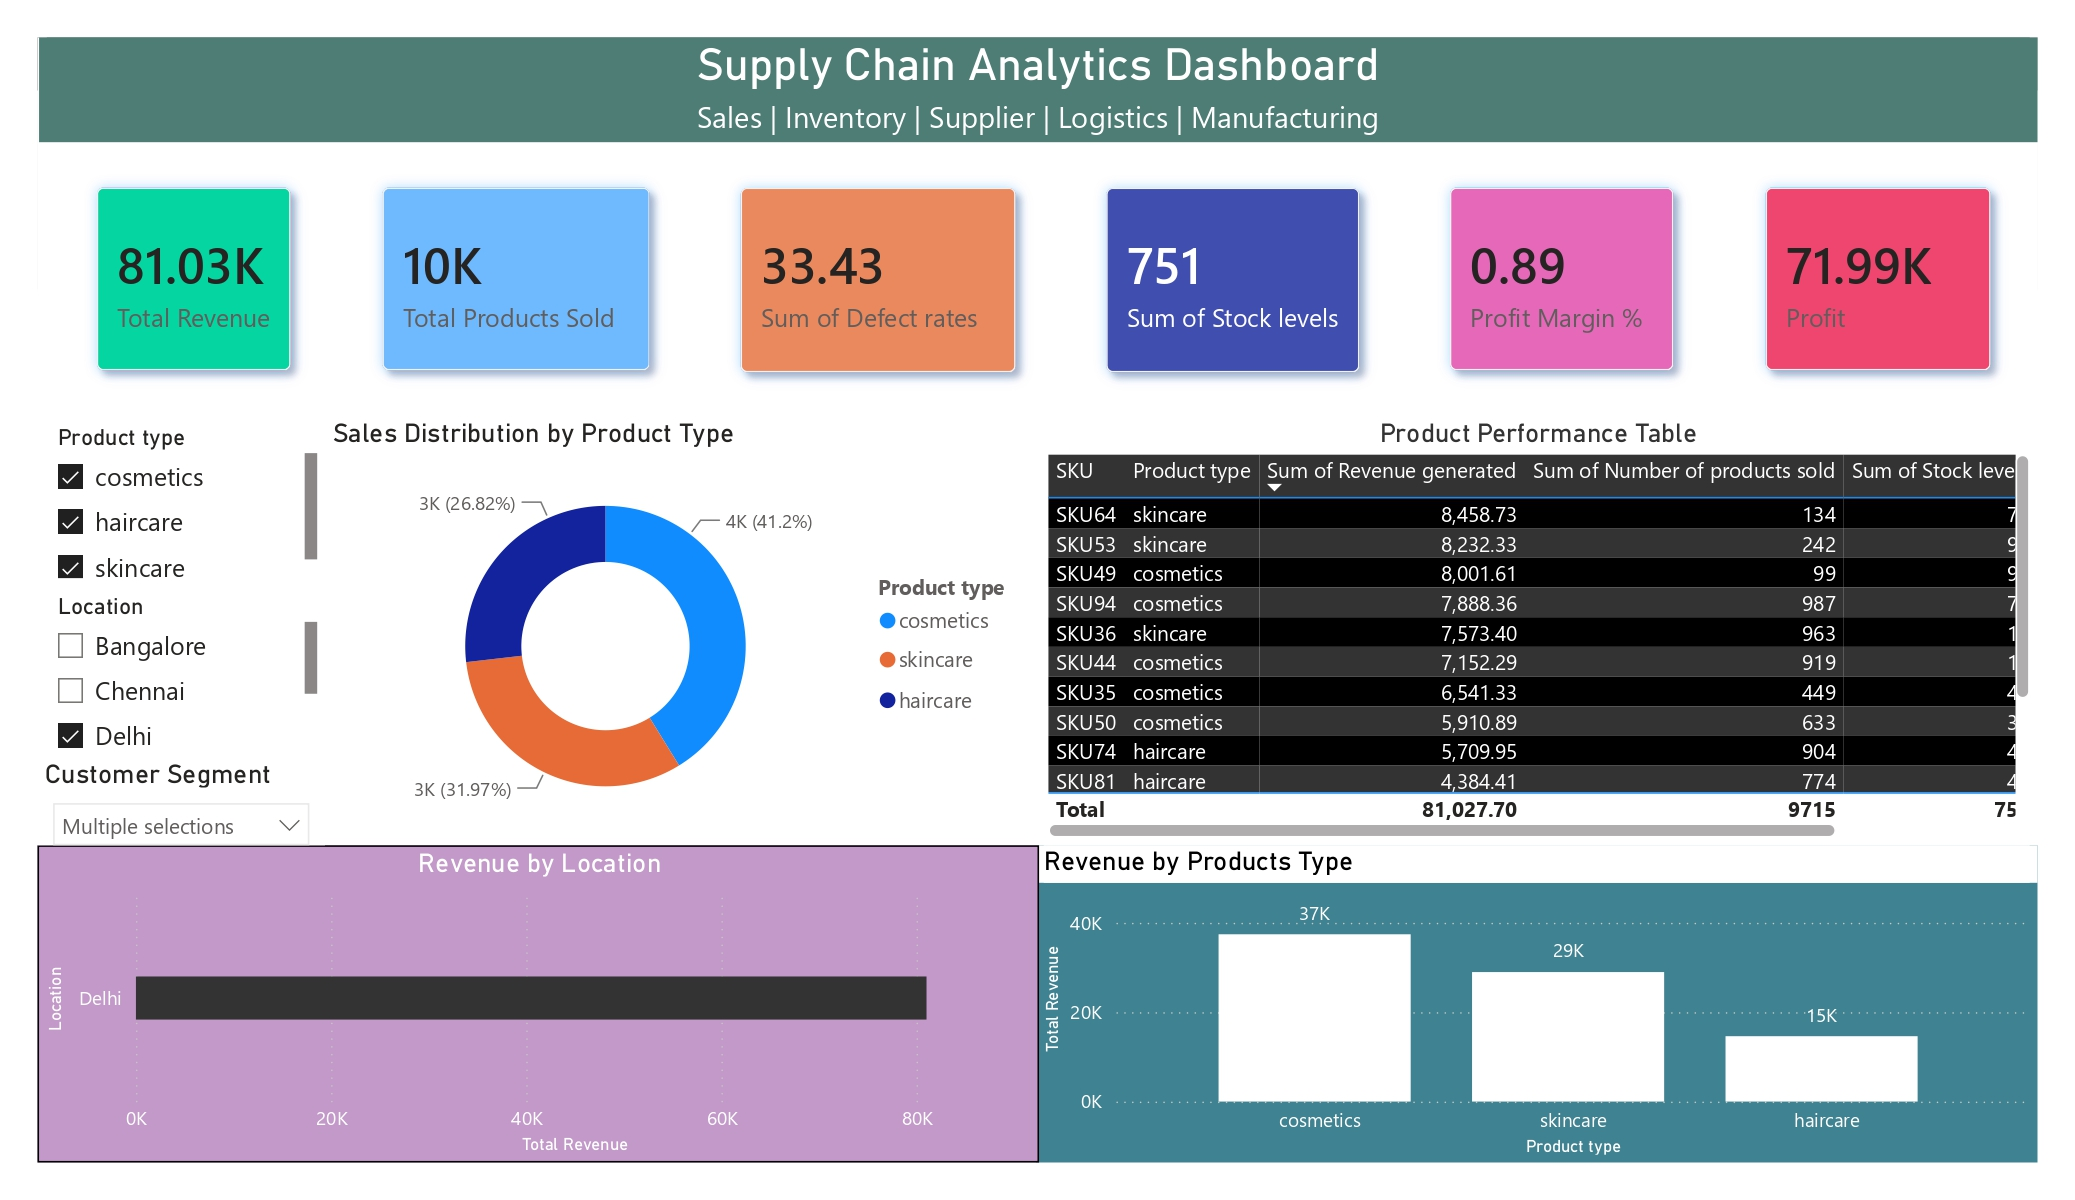

What the dashboard file says about the page in this screenshot:
{"tool":"powerbi","page":{"name":"Executive Overview","canvas":[1280,720],"ordinal":0},"visuals":[{"type":"cardVisual","fields":{"Data":["supply_chain_data.Total Revenue"]},"box":[9.1,66.9,182.5,175.7],"z":0},{"type":"clusteredColumnChart","title":"Revenue by Products Type","fields":{"Category":["supply_chain_data.Product type"],"Y":["supply_chain_data.Total Revenue"]},"box":[639.4,517,640.6,202.9],"z":1000},{"type":"donutChart","title":"Sales Distribution by Product Type","fields":{"Category":["supply_chain_data.Product type"],"Y":["supply_chain_data.Total Products Sold"]},"box":[183.7,242.6,456.9,274.4],"z":2000},{"type":"clusteredBarChart","title":"Revenue by Location","fields":{"Category":["supply_chain_data.Location"],"Y":["supply_chain_data.Total Revenue"]},"box":[0,517,640.6,202.9],"z":3000},{"type":"tableEx","title":"Product Performance Table","fields":{"Values":["supply_chain_data.SKU","supply_chain_data.Product type","Sum(supply_chain_data.Revenue generated)","Sum(supply_chain_data.Number of products sold)","Sum(supply_chain_data.Stock levels)","Sum(supply_chain_data.Defect rates)"]},"box":[640.6,242.6,639.4,274.4],"z":4000},{"type":"slicer","fields":{"Values":["supply_chain_data.Product type"]},"box":[0,242.6,183.7,108.8],"z":5000},{"type":"slicer","fields":{"Values":["supply_chain_data.Location"]},"box":[0,351.5,183.7,110],"z":6000},{"type":"slicer","title":"Customer Segment","fields":{"Values":["supply_chain_data.Customer demographics"]},"box":[0,461.4,183.7,55.6],"z":7000},{"type":"cardVisual","title":"Products Sold","fields":{"Data":["supply_chain_data.Total Products Sold"]},"box":[191.6,66.9,229,175.7],"z":8000},{"type":"cardVisual","fields":{"Data":["supply_chain_data.Profit"]},"box":[1077.1,66.9,202.9,175.7],"z":9000},{"type":"cardVisual","fields":{"Data":["supply_chain_data.Profit Margin %"]},"box":[875.3,66.9,201.8,175.7],"z":10000},{"type":"cardVisual","fields":{"Data":["Sum(supply_chain_data.Defect rates)"]},"box":[421,67,234,176],"z":11000},{"type":"cardVisual","fields":{"Data":["Sum(supply_chain_data.Stock levels)"]},"box":[655,67,220,176],"z":12000},{"type":"textbox","title":"Supply Chain Analytics Dashboard","box":[1.1,0,1278.9,66.9],"z":13000}]}

Visuals, with their boxes on the page's 1280x720 design canvas (x1, y1, x2, y2). These are canvas units, not pixel positions in the 2075x1200 screenshot, which may show the page scaled, cropped or inside an application window:
cardVisual - supply_chain_data.Total Revenue: [9, 67, 192, 243]
"Revenue by Products Type" clusteredColumnChart: [639, 517, 1280, 720]
"Sales Distribution by Product Type" donutChart: [184, 243, 641, 517]
"Revenue by Location" clusteredBarChart: [0, 517, 641, 720]
"Product Performance Table" tableEx: [641, 243, 1280, 517]
slicer - supply_chain_data.Product type: [0, 243, 184, 351]
slicer - supply_chain_data.Location: [0, 352, 184, 462]
"Customer Segment" slicer: [0, 461, 184, 517]
"Products Sold" cardVisual: [192, 67, 421, 243]
cardVisual - supply_chain_data.Profit: [1077, 67, 1280, 243]
cardVisual - supply_chain_data.Profit Margin %: [875, 67, 1077, 243]
cardVisual - Sum(supply_chain_data.Defect rates): [421, 67, 655, 243]
cardVisual - Sum(supply_chain_data.Stock levels): [655, 67, 875, 243]
"Supply Chain Analytics Dashboard" textbox: [1, 0, 1280, 67]
